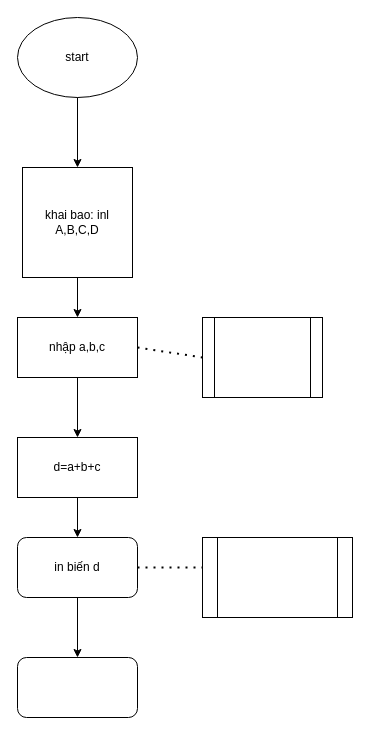
The diagram is 370 pixels wide and 735 high, and some of its shapes have lost their labels. Here are the shapes that lost their labels. From the top down, the box of each, then its label:
(202, 316, 322, 398): cin>> a >>b>>c
(202, 536, 352, 618): cout << d
(16, 656, 138, 718): End
